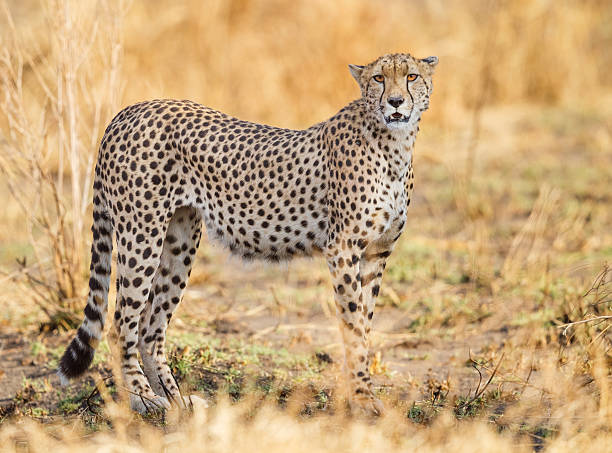cheetah: (336, 44, 445, 135)
